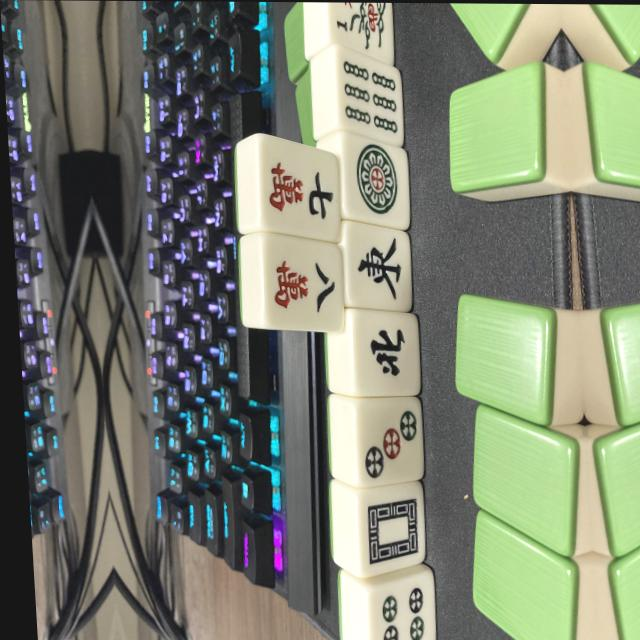bai: (357, 486, 429, 578)
east: (344, 226, 412, 311)
m7: (254, 144, 343, 239)
m8: (258, 236, 347, 332)
north: (351, 312, 421, 395)
s6: (335, 57, 403, 143)
t1: (340, 138, 411, 232)
t3: (350, 398, 425, 490)
t4: (372, 571, 443, 640)
